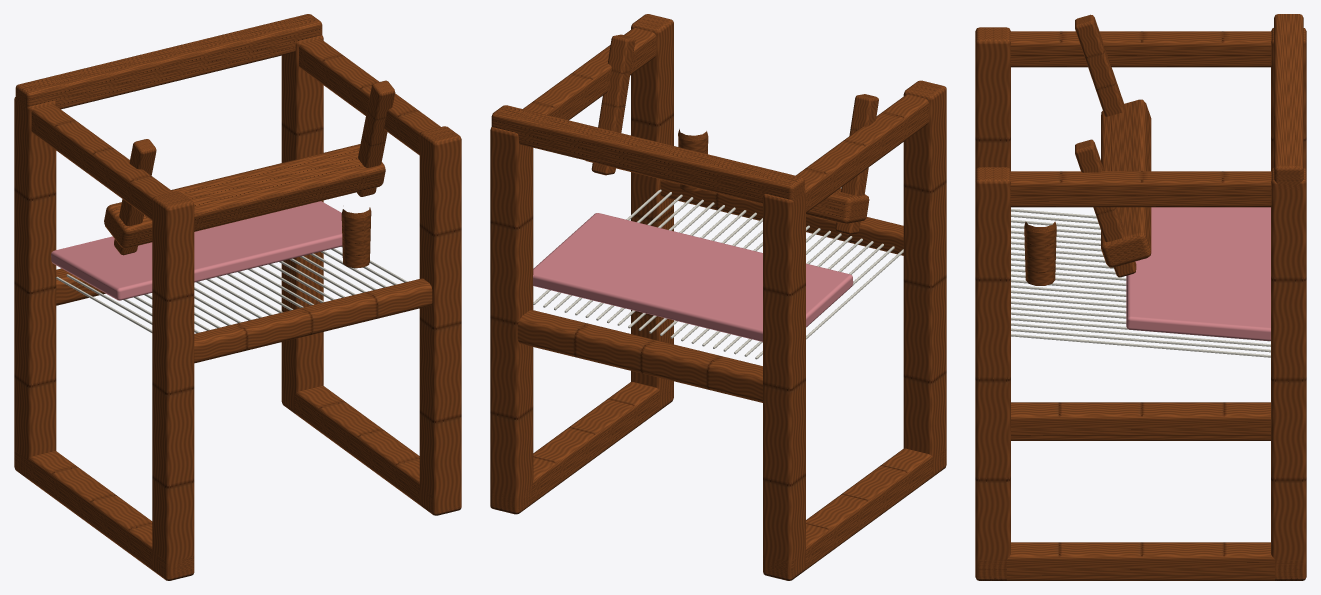
Rendered from witch-cottage-and-apothecary-floor-loom-27ba4cf9__32453.glb.
The picture shows the model from 3 angles, left to right: view 1: azimuth 30°, elevation 25°; view 2: azimuth 150°, elevation 25°; view 3: azimuth 270°, elevation 25°; orthographic projection. The views are drawn at different scales.
Parts seen in each view (by area): view 1: floor-loom; view 2: floor-loom; view 3: floor-loom.
Boxes of the visible parts, <box> form: floor-loom: <box>14,14,461,580</box>; floor-loom: <box>490,14,946,580</box>; floor-loom: <box>975,14,1306,580</box>.
Size of the model in its own units: 1.24 by 1.59 by 1.12.
3 materials, 2 textured.
